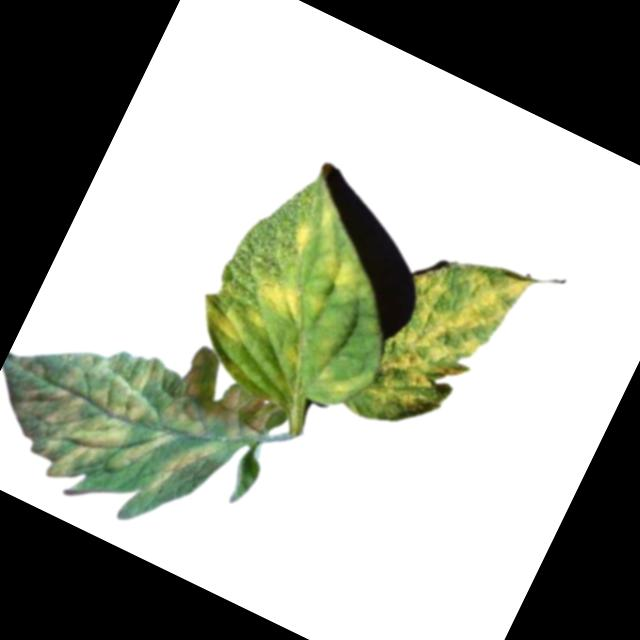Leaf_Mold: (1, 287, 273, 559), (351, 235, 536, 466), (250, 266, 334, 334), (192, 287, 267, 350), (309, 352, 367, 410), (314, 247, 371, 299), (284, 212, 323, 259)
